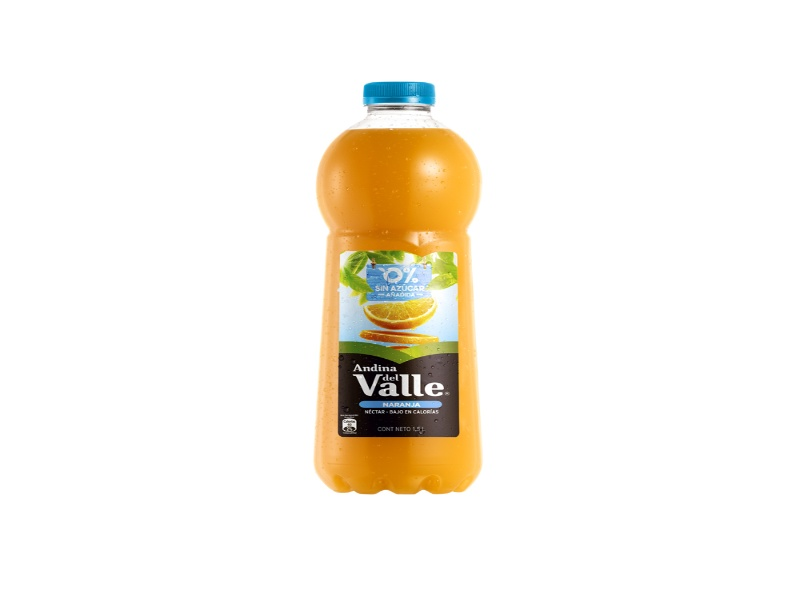Jugo de naranja: (316, 80, 482, 495)
